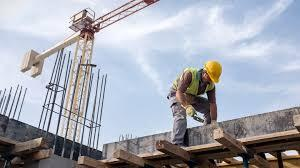safe person: (170, 60, 224, 145)
